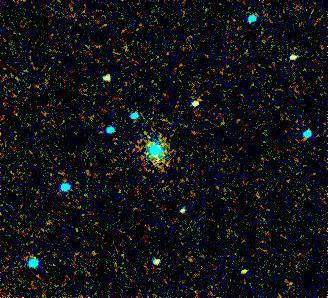star: (231, 256, 261, 286)
